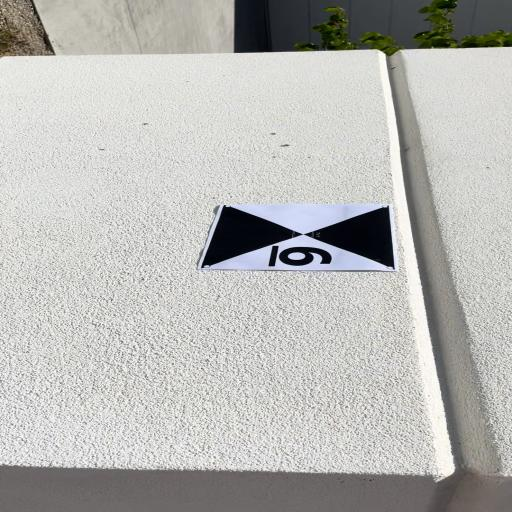target6: (195, 202, 396, 272)
